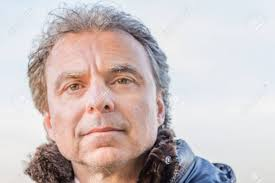white_male: (49, 37, 154, 172)
